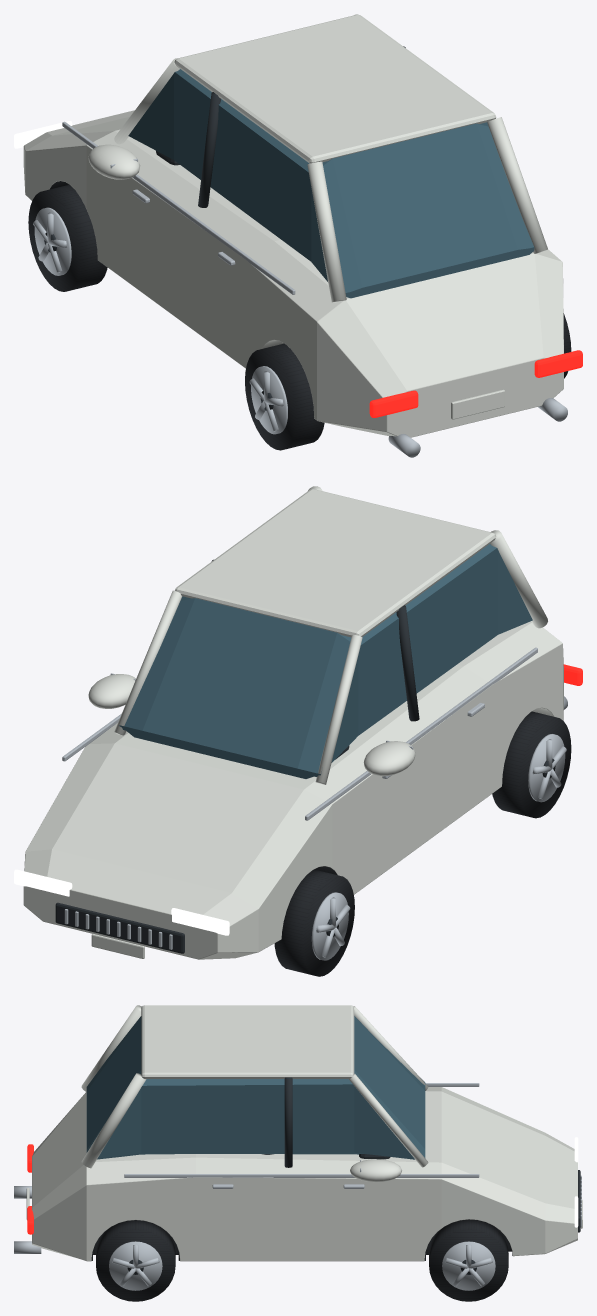
File: mc_van.glb
The picture shows the model from 3 angles, top to bottom: view 1: azimuth 30°, elevation 25°; view 2: azimuth 150°, elevation 25°; view 3: azimuth 270°, elevation 25°; orthographic projection. The views are drawn at different scales.
Parts seen in each view (by area): view 1: mc_van__Geometry, mc_van__Wheel_L.001, mc_van__Wheel_L; view 2: mc_van__Geometry, mc_van__Wheel_L.001, mc_van__Wheel_L; view 3: mc_van__Geometry, mc_van__Wheel_R.001, mc_van__Wheel_R.
Part boxes in pixels (x1,y1,x2,y2): mc_van__Geometry: (14,14,582,457); mc_van__Wheel_L.001: (28,184,107,291); mc_van__Wheel_L: (245,343,324,450); mc_van__Geometry: (14,486,582,960); mc_van__Wheel_L.001: (274,869,354,976); mc_van__Wheel_L: (492,711,571,818); mc_van__Geometry: (14,1005,582,1290); mc_van__Wheel_R.001: (429,1219,508,1301); mc_van__Wheel_R: (96,1220,175,1301).
Bounding box in the file's own units: 2.56 × 2.13 × 5.21.
8 materials, 2 textured.
